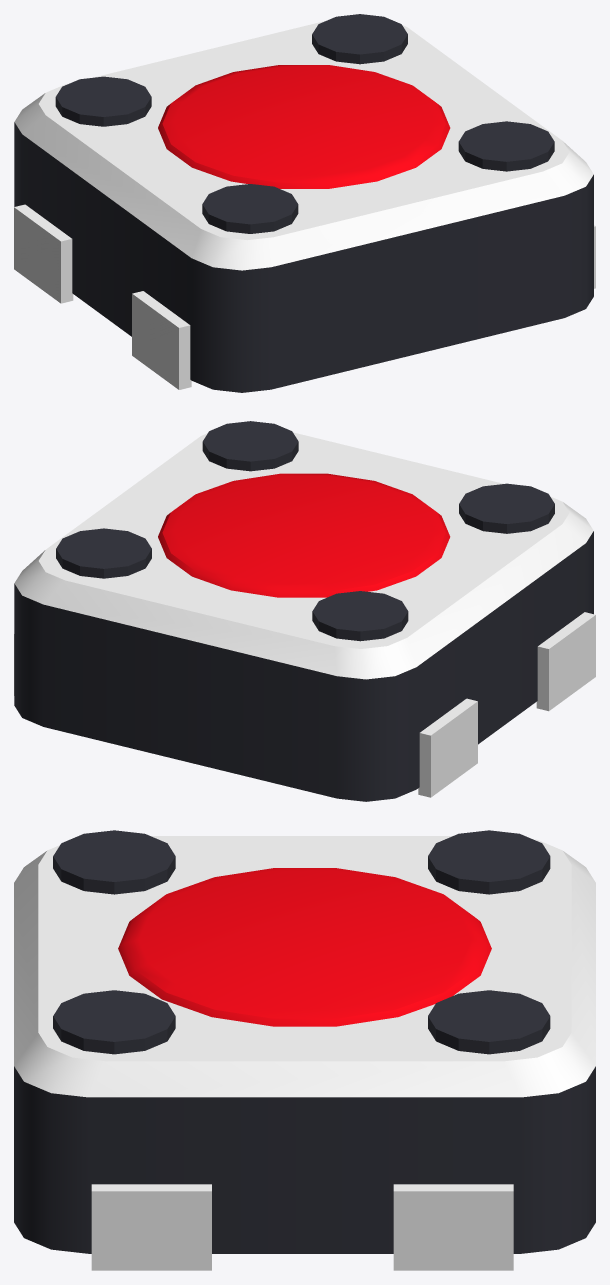
The model's file is Switch_1_ON.fbx.
3 views of the same model, one above another, from view 1: azimuth 30°, elevation 25°; view 2: azimuth 150°, elevation 25°; view 3: azimuth 270°, elevation 25° (orthographic). The views are drawn at different scales.
Parts seen in each view (by area): view 1: Switch_1_ON; view 2: Switch_1_ON; view 3: Switch_1_ON.
Part boxes in pixels (x1,y1,x2,y2): Switch_1_ON: (14,14,595,392); Switch_1_ON: (14,421,595,801); Switch_1_ON: (14,830,595,1270).
Size of the model in its own units: 52.85 by 19.38 by 50.
